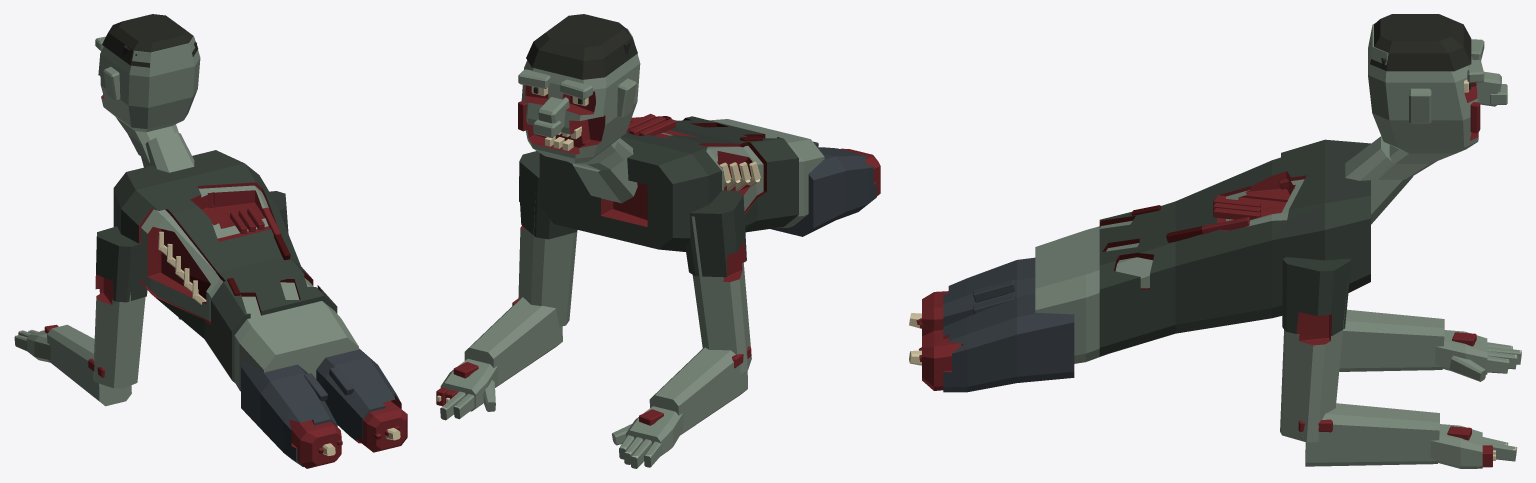
File: crawler.glb
3 views of the same model, side by side, from view 1: azimuth 30°, elevation 25°; view 2: azimuth 150°, elevation 25°; view 3: azimuth 270°, elevation 25° (orthographic). The views are drawn at different scales.
Visible parts, largest first — view 1: Torso, Arm_Left, Head, Hip_Stump_Left, Hip_Stump_Right, Hand_Left; view 2: Torso, Head, Arm_Left, Arm_Right, Hip_Stump_Left, Hand_Left, Hand_Right; view 3: Torso, Arm_Right, Head, Hip_Stump_Right, Arm_Left, Hip_Stump_Left, Hand_Left, Hand_Right.
Part boxes in pixels (left/top/right/bottom): Torso: left=113, top=117, right=358, bottom=391; Arm_Left: left=47, top=226, right=147, bottom=406; Head: left=95, top=14, right=200, bottom=132; Hip_Stump_Left: left=241, top=361, right=342, bottom=468; Hip_Stump_Right: left=316, top=348, right=407, bottom=452; Hand_Left: left=14, top=324, right=58, bottom=362; Torso: left=539, top=113, right=824, bottom=251; Head: left=518, top=14, right=640, bottom=163; Arm_Left: left=649, top=190, right=751, bottom=435; Arm_Right: left=464, top=151, right=577, bottom=387; Hip_Stump_Left: left=771, top=141, right=880, bottom=236; Hand_Left: left=612, top=406, right=683, bottom=468; Hand_Right: left=436, top=359, right=497, bottom=420; Torso: left=1035, top=136, right=1455, bottom=363; Arm_Right: left=1280, top=257, right=1439, bottom=466; Head: left=1368, top=14, right=1507, bottom=153; Hip_Stump_Right: left=909, top=294, right=1074, bottom=392; Arm_Left: left=1339, top=309, right=1444, bottom=371; Hip_Stump_Left: left=909, top=257, right=1035, bottom=336; Hand_Left: left=1435, top=330, right=1521, bottom=381; Hand_Right: left=1430, top=424, right=1517, bottom=468.
Size of the model in its own units: 0.5972 by 0.929 by 1.33.
